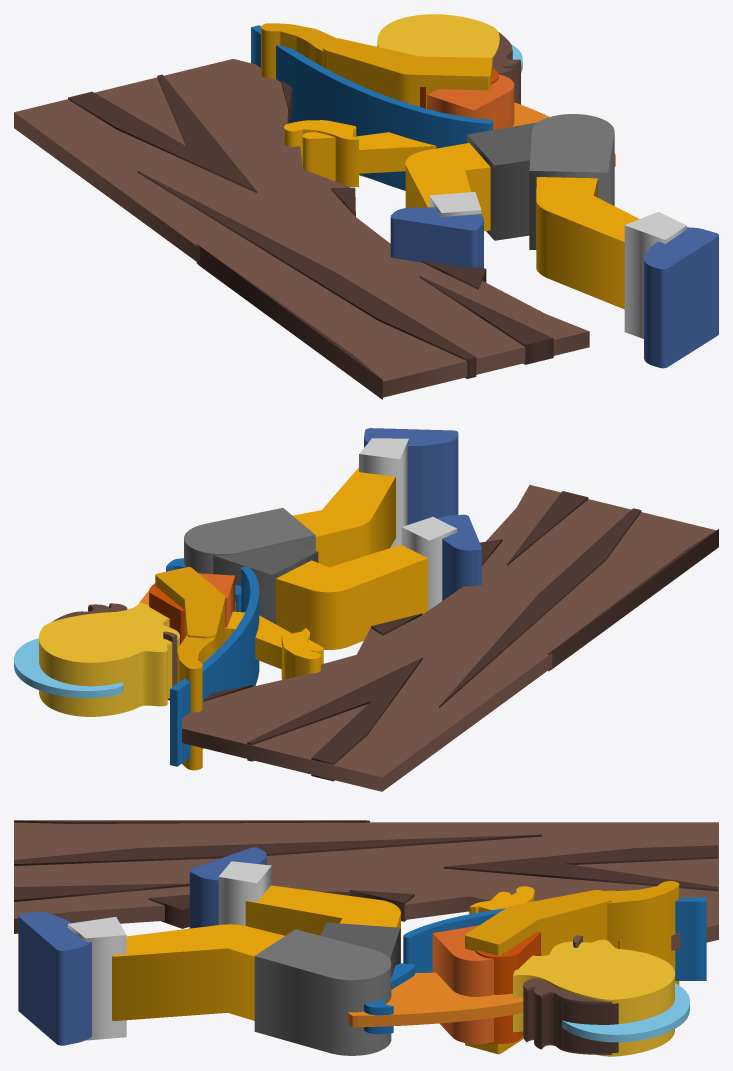
The model's file is emoji_u1f9d7.glb.
3 renders of one model, top to bottom at view 1: azimuth 30°, elevation 25°; view 2: azimuth 150°, elevation 25°; view 3: azimuth 270°, elevation 25°, orthographic. The views are drawn at different scales.
Visible parts, largest first — view 1: emoji_u1f9d7; view 2: emoji_u1f9d7; view 3: emoji_u1f9d7.
Boxes of the visible parts, bbox=[...] form: emoji_u1f9d7: bbox=[14, 14, 718, 399]; emoji_u1f9d7: bbox=[14, 428, 718, 791]; emoji_u1f9d7: bbox=[14, 820, 718, 1056].
Bounding box in the file's own units: 0.0237 × 0.0058 × 0.0338.
